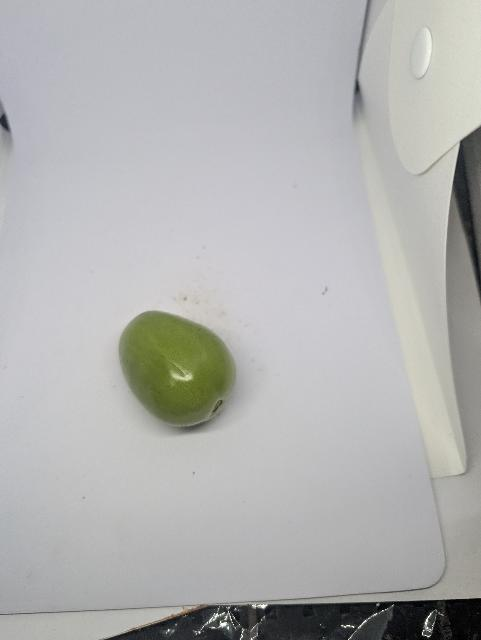green: (105, 301, 248, 444)
